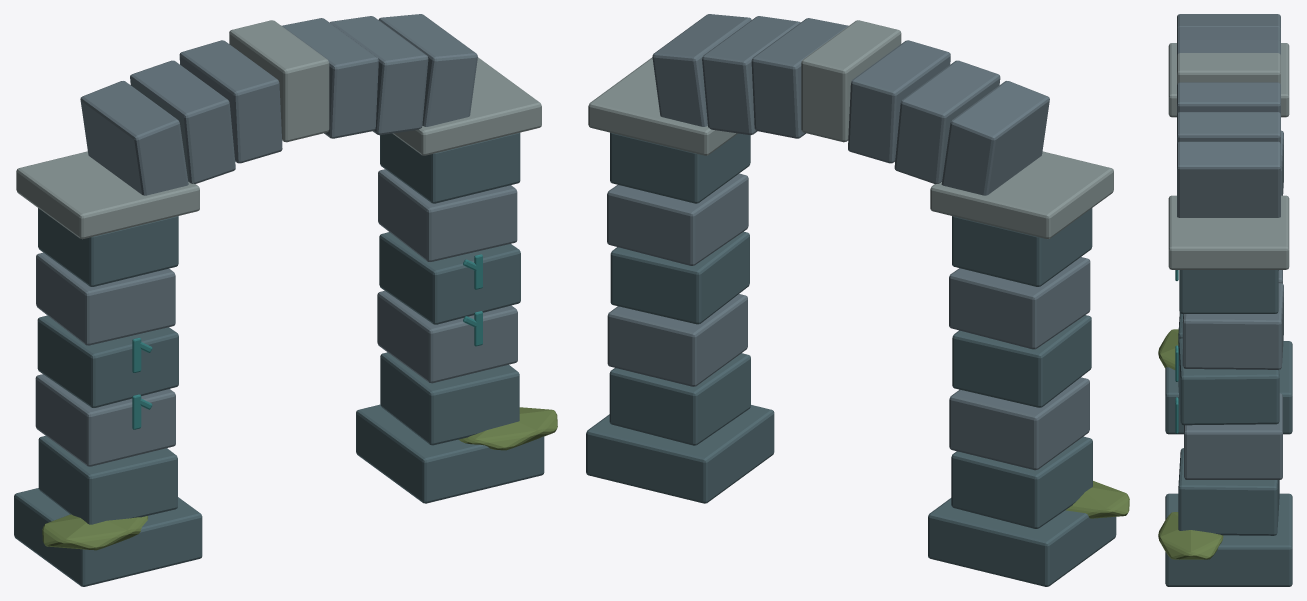
File: ruin_arch.glb
3 views of the same model, side by side, from view 1: azimuth 30°, elevation 25°; view 2: azimuth 150°, elevation 25°; view 3: azimuth 270°, elevation 25° (orthographic). The views are drawn at different scales.
Parts seen in each view (by area): view 1: AncientBlock.002, PillarFoot.001, CarvedCap.001, FootMoss.001, RuneStem.001; view 2: AncientBlock.002, PillarFoot.001, CarvedCap.001, FootMoss.001; view 3: AncientBlock.002, PillarFoot.001, CarvedCap.001, FootMoss.001, RuneStem.001.
Boxes of the visible parts, left/top/right/bottom form: AncientBlock.002: left=35, top=14, right=517, bottom=466; PillarFoot.001: left=14, top=132, right=544, bottom=586; CarvedCap.001: left=16, top=20, right=541, bottom=239; FootMoss.001: left=42, top=407, right=557, bottom=550; RuneStem.001: left=132, top=254, right=482, bottom=429; AncientBlock.002: left=607, top=14, right=1090, bottom=470; PillarFoot.001: left=586, top=132, right=1116, bottom=586; CarvedCap.001: left=588, top=20, right=1113, bottom=238; FootMoss.001: left=1066, top=481, right=1129, bottom=518; AncientBlock.002: left=1177, top=14, right=1283, bottom=479; PillarFoot.001: left=1165, top=270, right=1292, bottom=586; CarvedCap.001: left=1168, top=43, right=1289, bottom=269; FootMoss.001: left=1158, top=329, right=1223, bottom=559; RuneStem.001: left=1175, top=270, right=1178, bottom=433.
Bounding box in the file's own units: 4.25 × 3.67 × 1.06.
